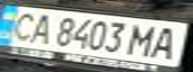0: (87, 17, 112, 53)
3: (103, 19, 130, 54)
4: (69, 16, 93, 51)
8: (48, 15, 78, 47)
A: (145, 24, 187, 61), (21, 11, 57, 45)
C: (3, 9, 42, 42)
M: (124, 21, 163, 56)
